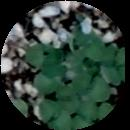Basil: (76, 34, 109, 65), (23, 45, 66, 65), (39, 104, 72, 130), (53, 85, 82, 114), (37, 65, 65, 94), (76, 102, 115, 122), (80, 76, 111, 101), (111, 47, 130, 80)
